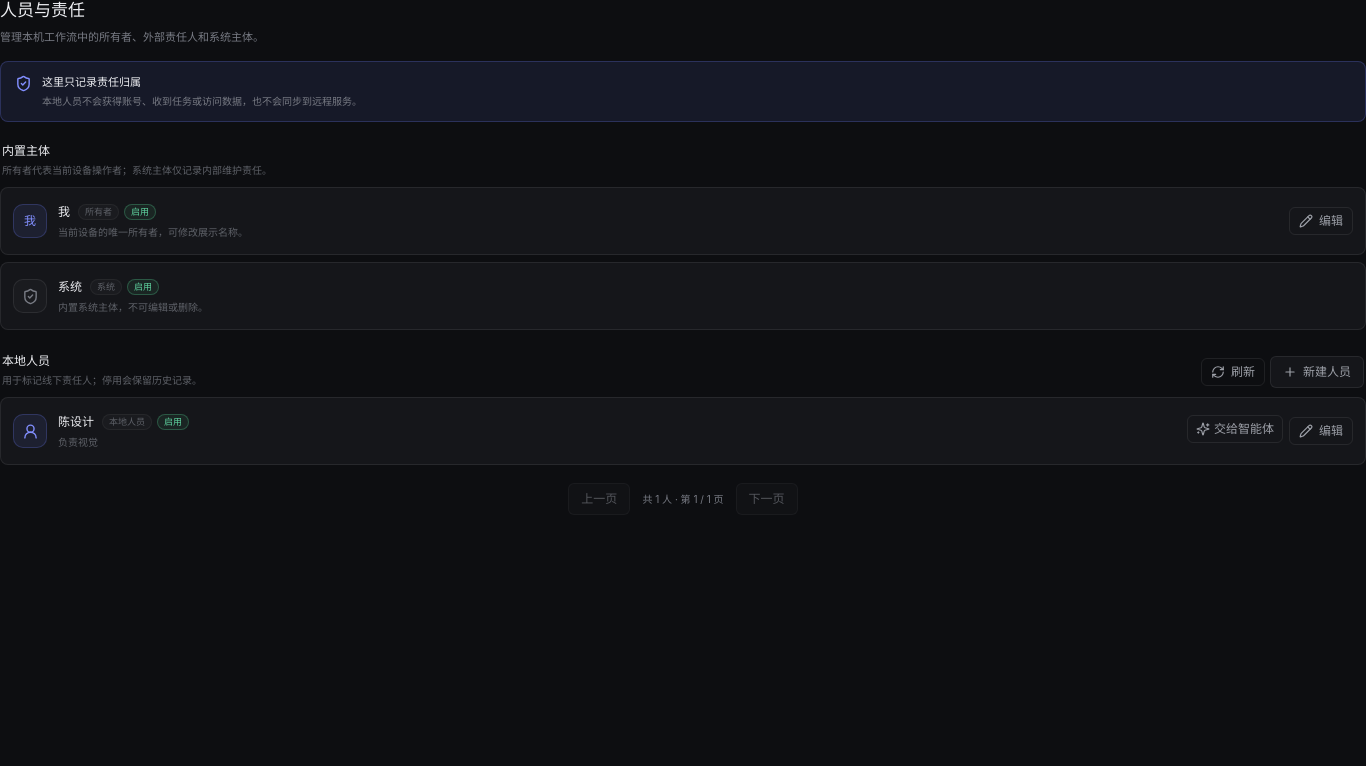
Test: ActorSettings › refreshes the person list after cancelling a conflicted edit
Expected: the text "陈设计" is shown, [58,413,94,431]
Click the button with aria-label "编辑陈设计": x=1321, y=431 [1289,417,1353,445]
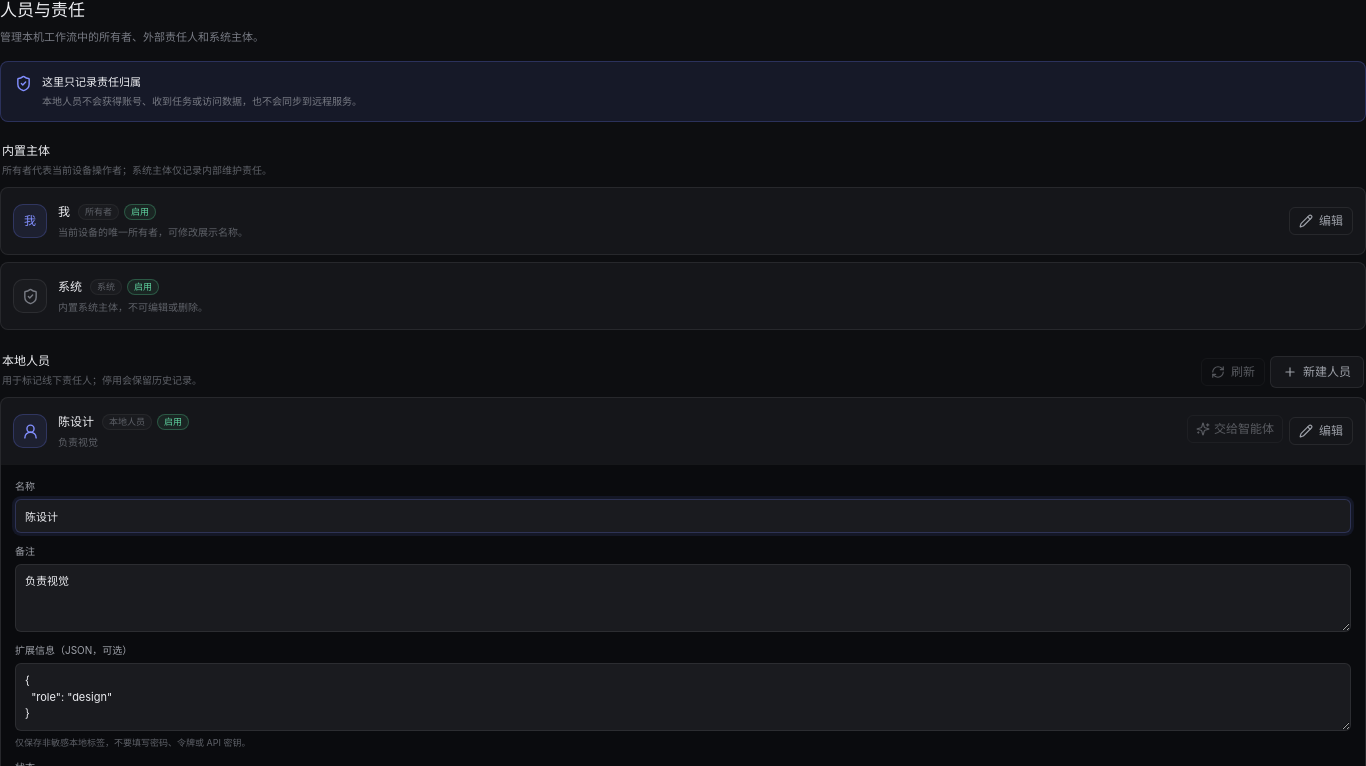
Replace the text in the field named "编辑陈设计的名称" with "不应覆盖外部更新的草稿": x=683, y=516 [15,499,1351,533]
(page scrolled)
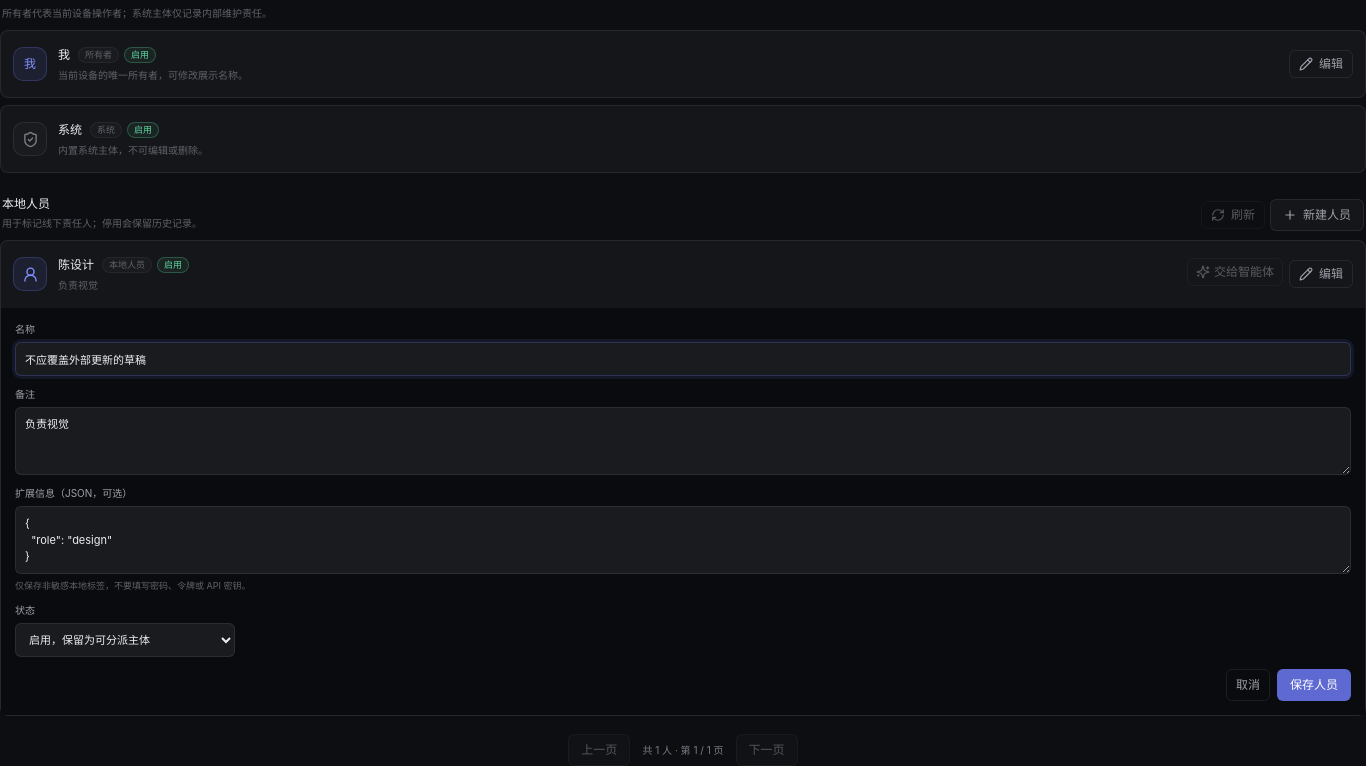
Click the button "保存人员": x=1314, y=685 [1277,669,1351,701]
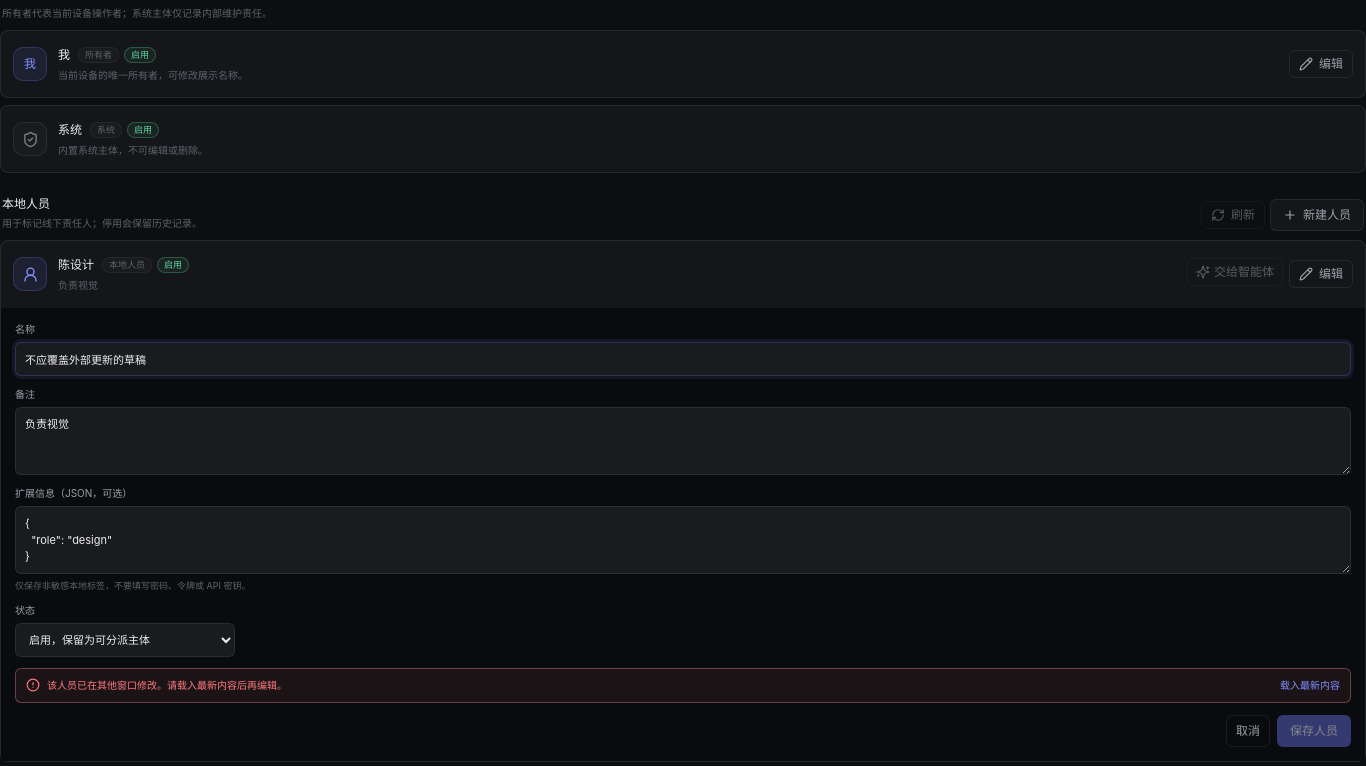
Now the text "该人员已在其他窗口修改。请载入最新内容后再编辑。" is shown, box [47,679,287,691]
Click the button "取消": x=1248, y=730 [1226,714,1270,746]
(page scrolled)
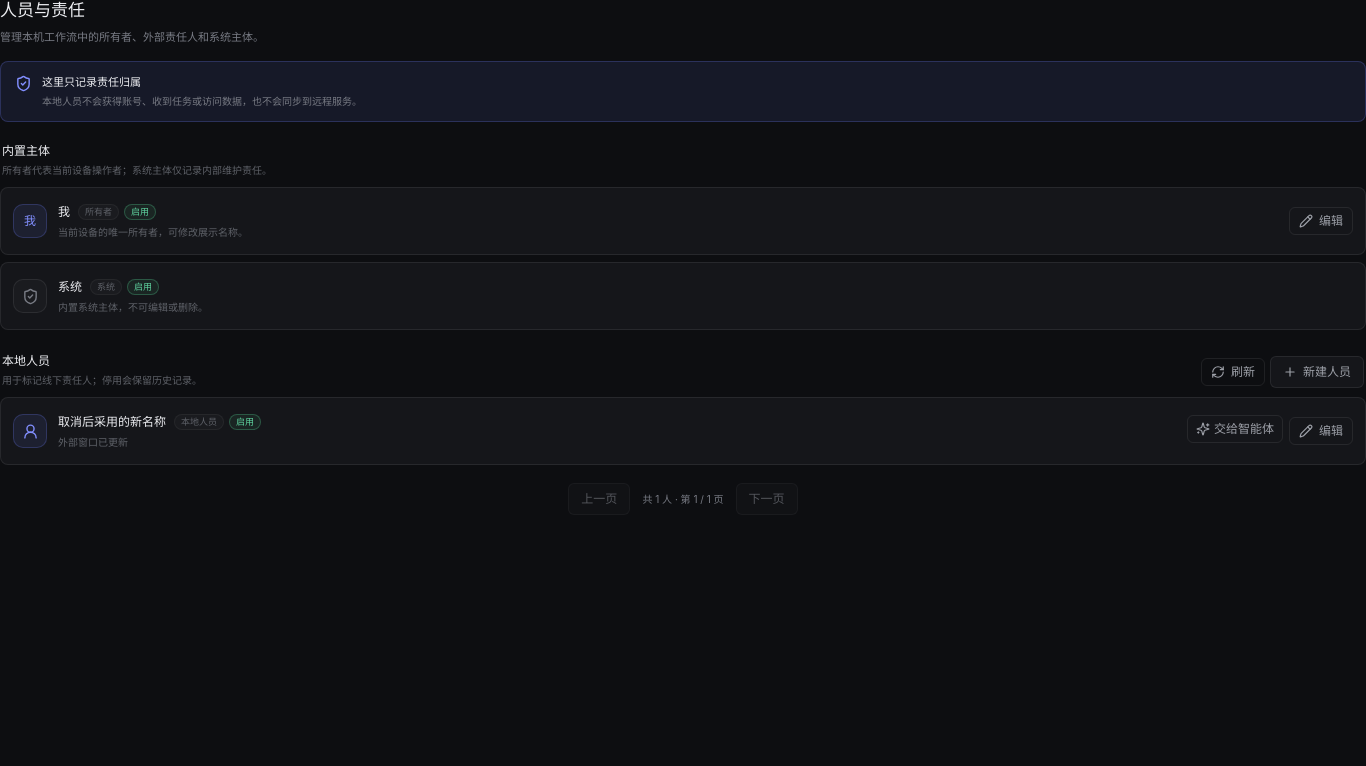
Now the button with aria-label "编辑取消后采用的新名称" is shown, box [1289,417,1353,445]
Now the text "陈设计" is gone
